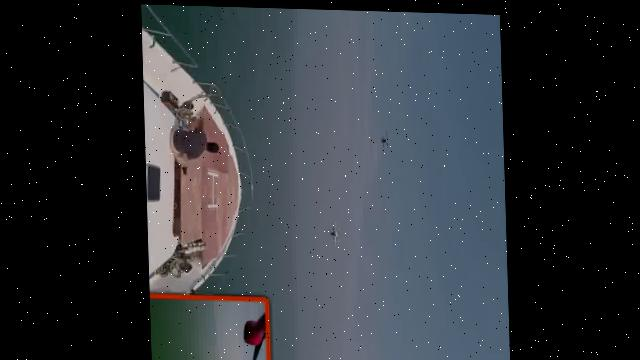drone: (319, 217, 344, 246), (373, 124, 393, 154)
